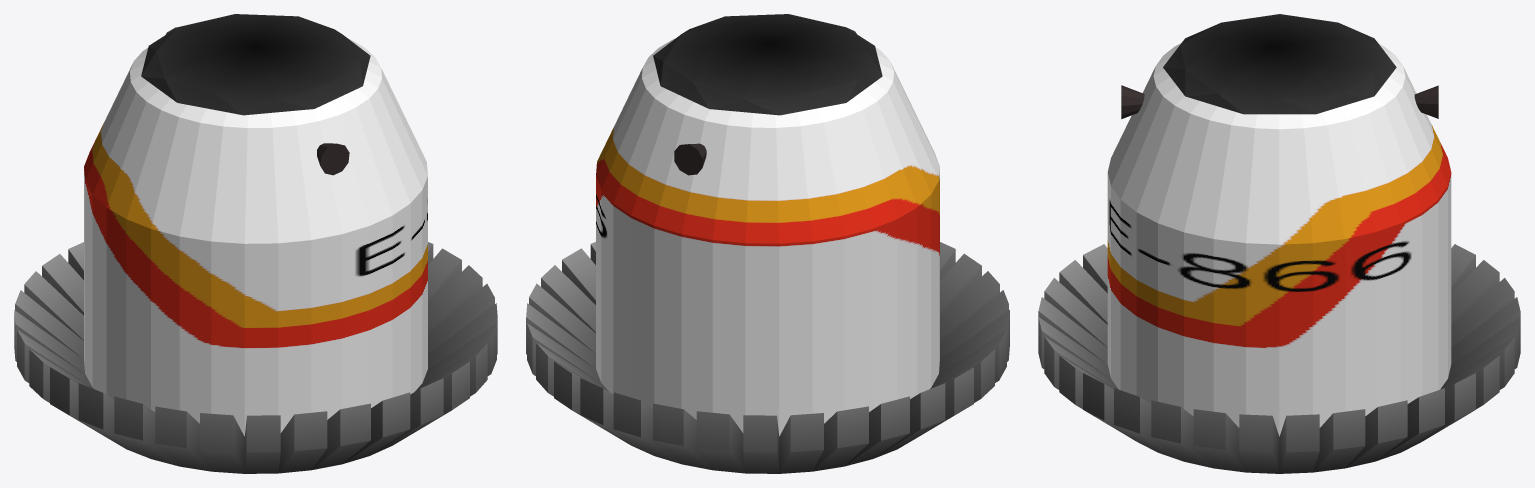
File: ship00.fbx
3 views of the same model, side by side, from view 1: azimuth 30°, elevation 25°; view 2: azimuth 150°, elevation 25°; view 3: azimuth 270°, elevation 25° (orthographic).
Visible parts, largest first — view 1: Cone; view 2: Cone; view 3: Cone.
Part boxes in pixels (x1,y1,x2,y2): Cone: (14,14,497,473); Cone: (526,14,1009,473); Cone: (1038,14,1520,473).
Size of the model in its own units: 2.81 by 2.28 by 2.81.
